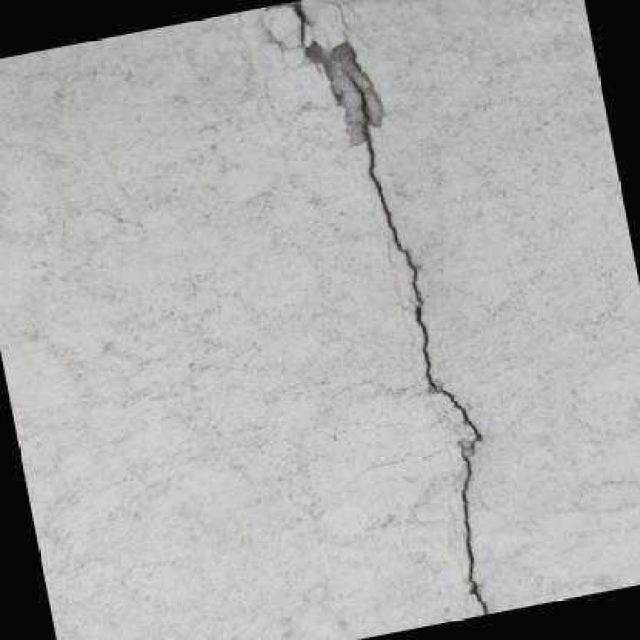D00: (265, 0, 487, 614)
